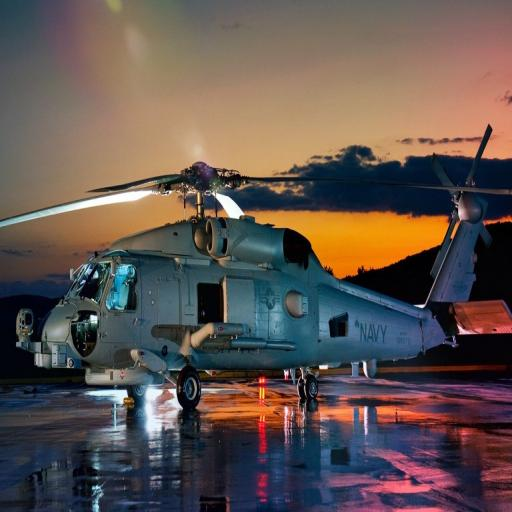helicopter: (13, 111, 498, 408)
